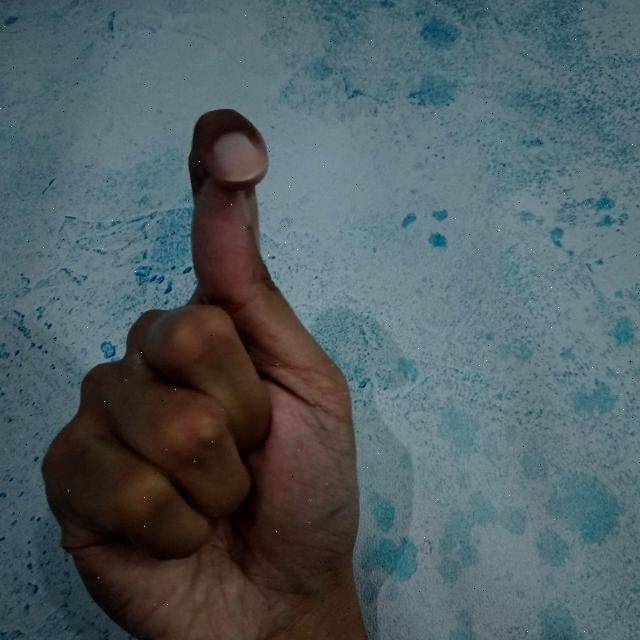T: (38, 104, 379, 640)
